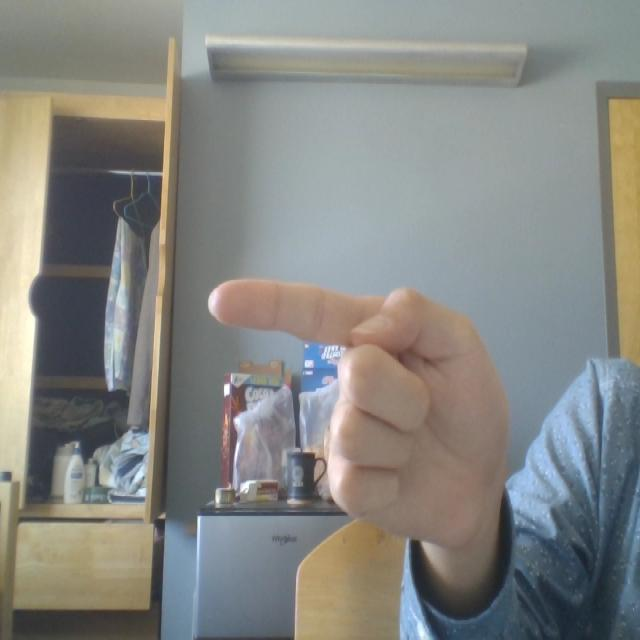G: (194, 218, 528, 575)
